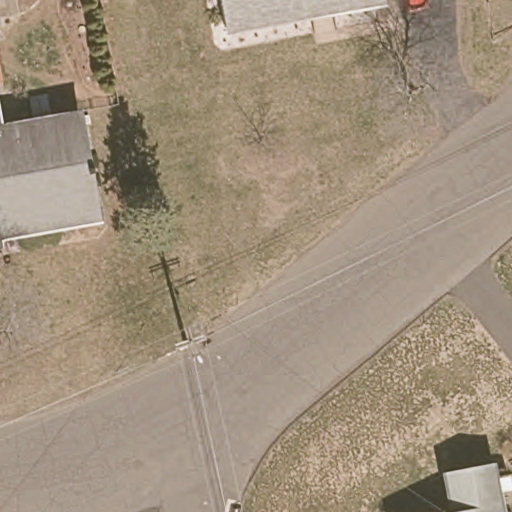DT: (175, 328, 208, 366)
